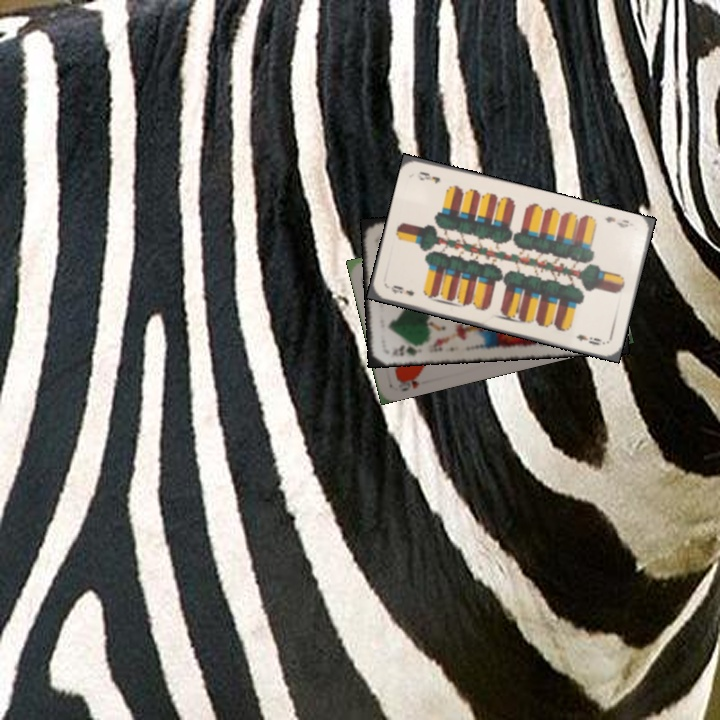E9: (601, 212, 631, 231), (387, 281, 416, 299)
GK: (388, 340, 423, 359)
HO: (393, 370, 422, 394)
